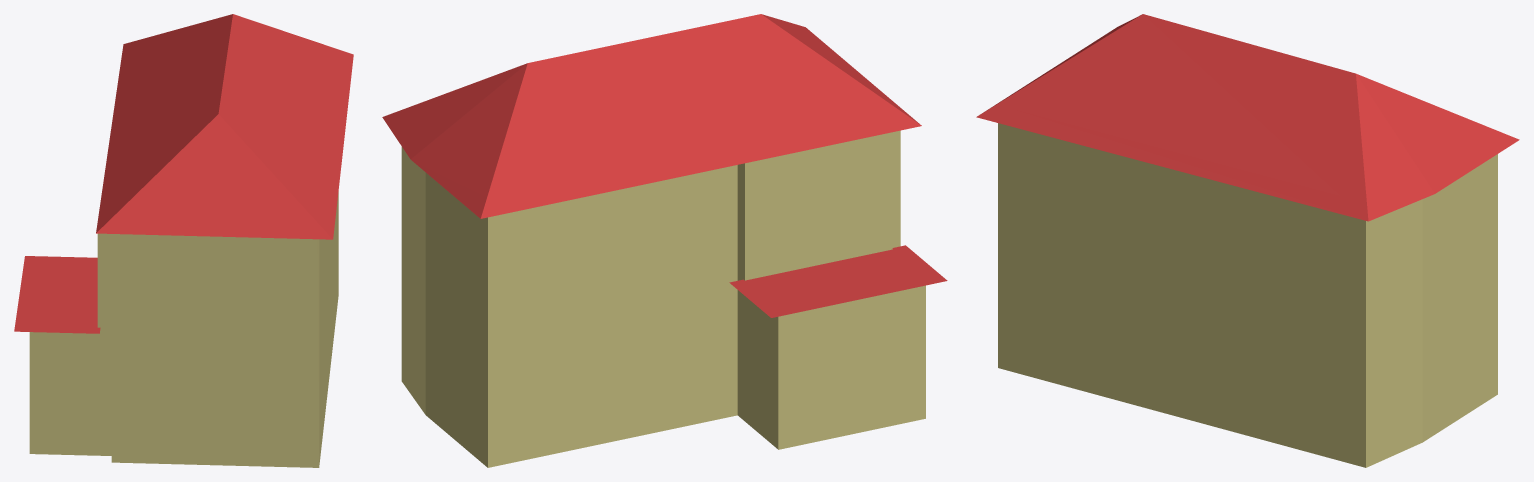
The picture shows the model from 3 angles, left to right: view 1: azimuth 30°, elevation 25°; view 2: azimuth 150°, elevation 25°; view 3: azimuth 270°, elevation 25°; orthographic projection. The views are drawn at different scales.
Parts seen in each view (by area): view 1: group_5, group_3, group_9, group_7, group_4, group_8; view 2: group_5, group_3, group_9, group_7, group_4; view 3: group_5, group_3, group_4.
Part boxes in pixels (left/top/right/bottom): group_5: left=97, top=192, right=338, bottom=467; group_3: left=96, top=14, right=353, bottom=239; group_9: left=29, top=332, right=97, bottom=455; group_7: left=14, top=256, right=100, bottom=333; group_4: left=96, top=40, right=353, bottom=239; group_8: left=25, top=256, right=97, bottom=316; group_5: left=401, top=130, right=900, bottom=467; group_3: left=402, top=14, right=919, bottom=218; group_9: left=745, top=285, right=925, bottom=449; group_7: left=729, top=245, right=947, bottom=317; group_4: left=382, top=68, right=921, bottom=218; group_5: left=998, top=123, right=1497, bottom=467; group_3: left=976, top=14, right=1496, bottom=220; group_4: left=980, top=26, right=1519, bottom=221.
Bounding box in the file's own units: 25.18 × 25.8 × 17.61.
